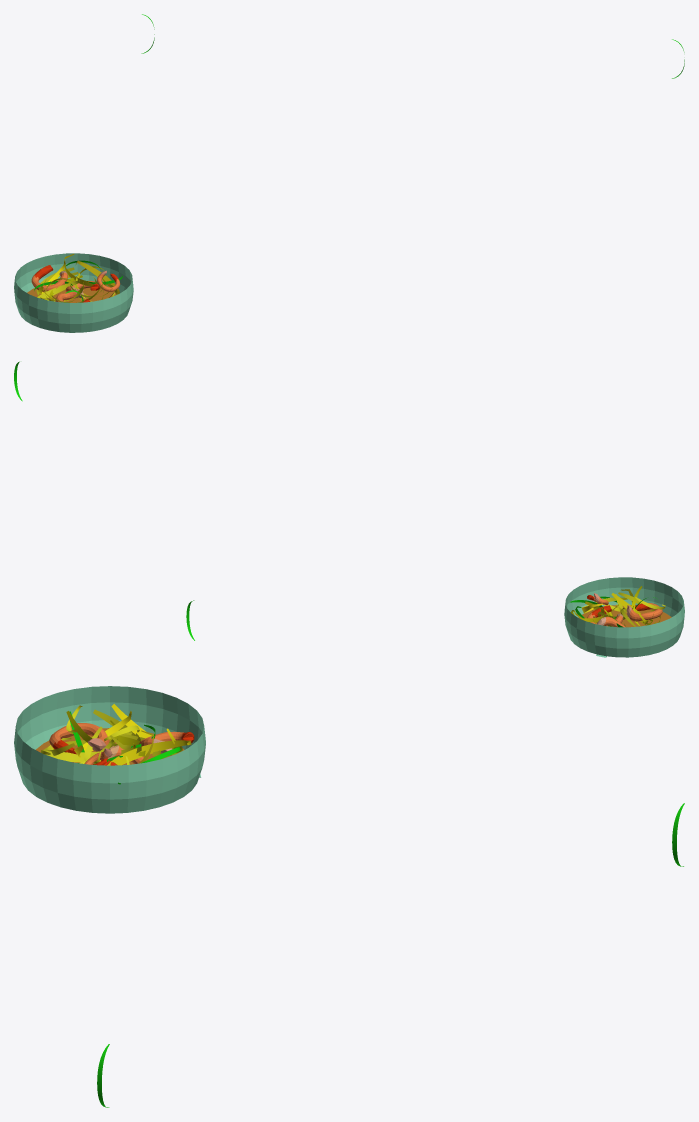
Rendered from finalFood.fbx.
The picture shows the model from 3 angles, top to bottom: view 1: azimuth 30°, elevation 25°; view 2: azimuth 150°, elevation 25°; view 3: azimuth 270°, elevation 25°; orthographic projection. The views are drawn at different scales.
Visible parts, largest first — view 1: Sphere; view 2: Sphere; view 3: Sphere, Torus.004, Sphere.028.
Part boxes in pixels (bbox=[...]): Sphere: bbox=[14, 253, 133, 332]; Sphere: bbox=[564, 577, 684, 657]; Sphere: bbox=[14, 686, 205, 813]; Torus.004: bbox=[49, 723, 109, 754]; Sphere.028: bbox=[107, 740, 191, 765].
Size of the model in its own units: 835 by 153 by 459.
